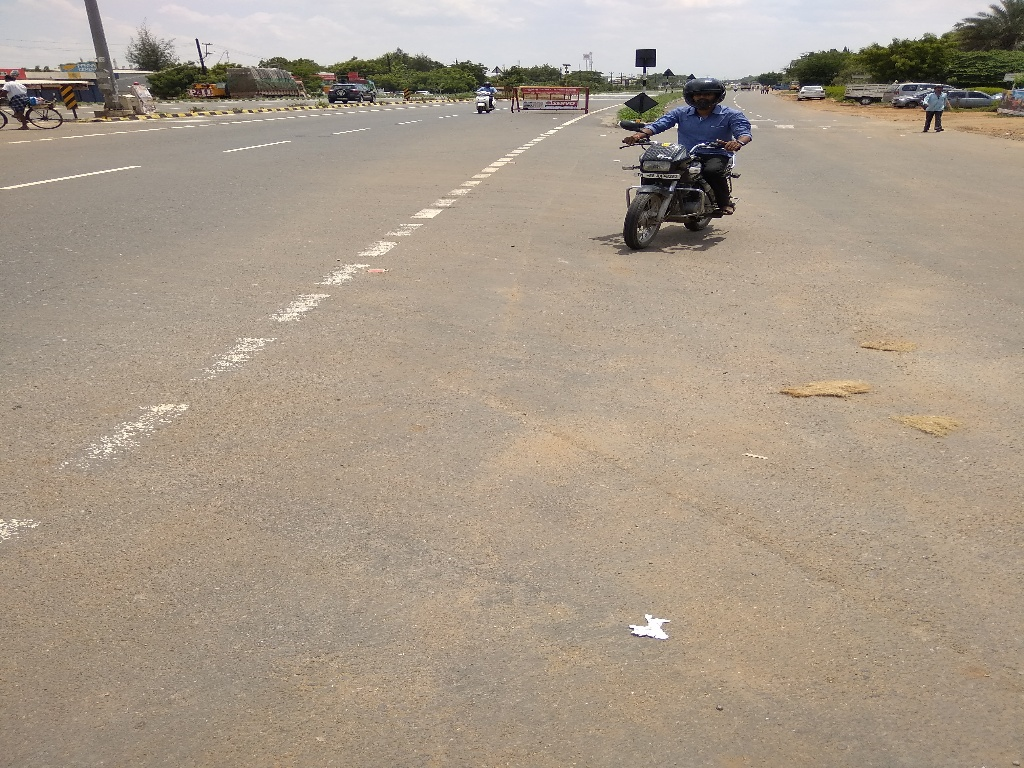biker: (597, 51, 768, 262)
helmet: (674, 62, 737, 126)
